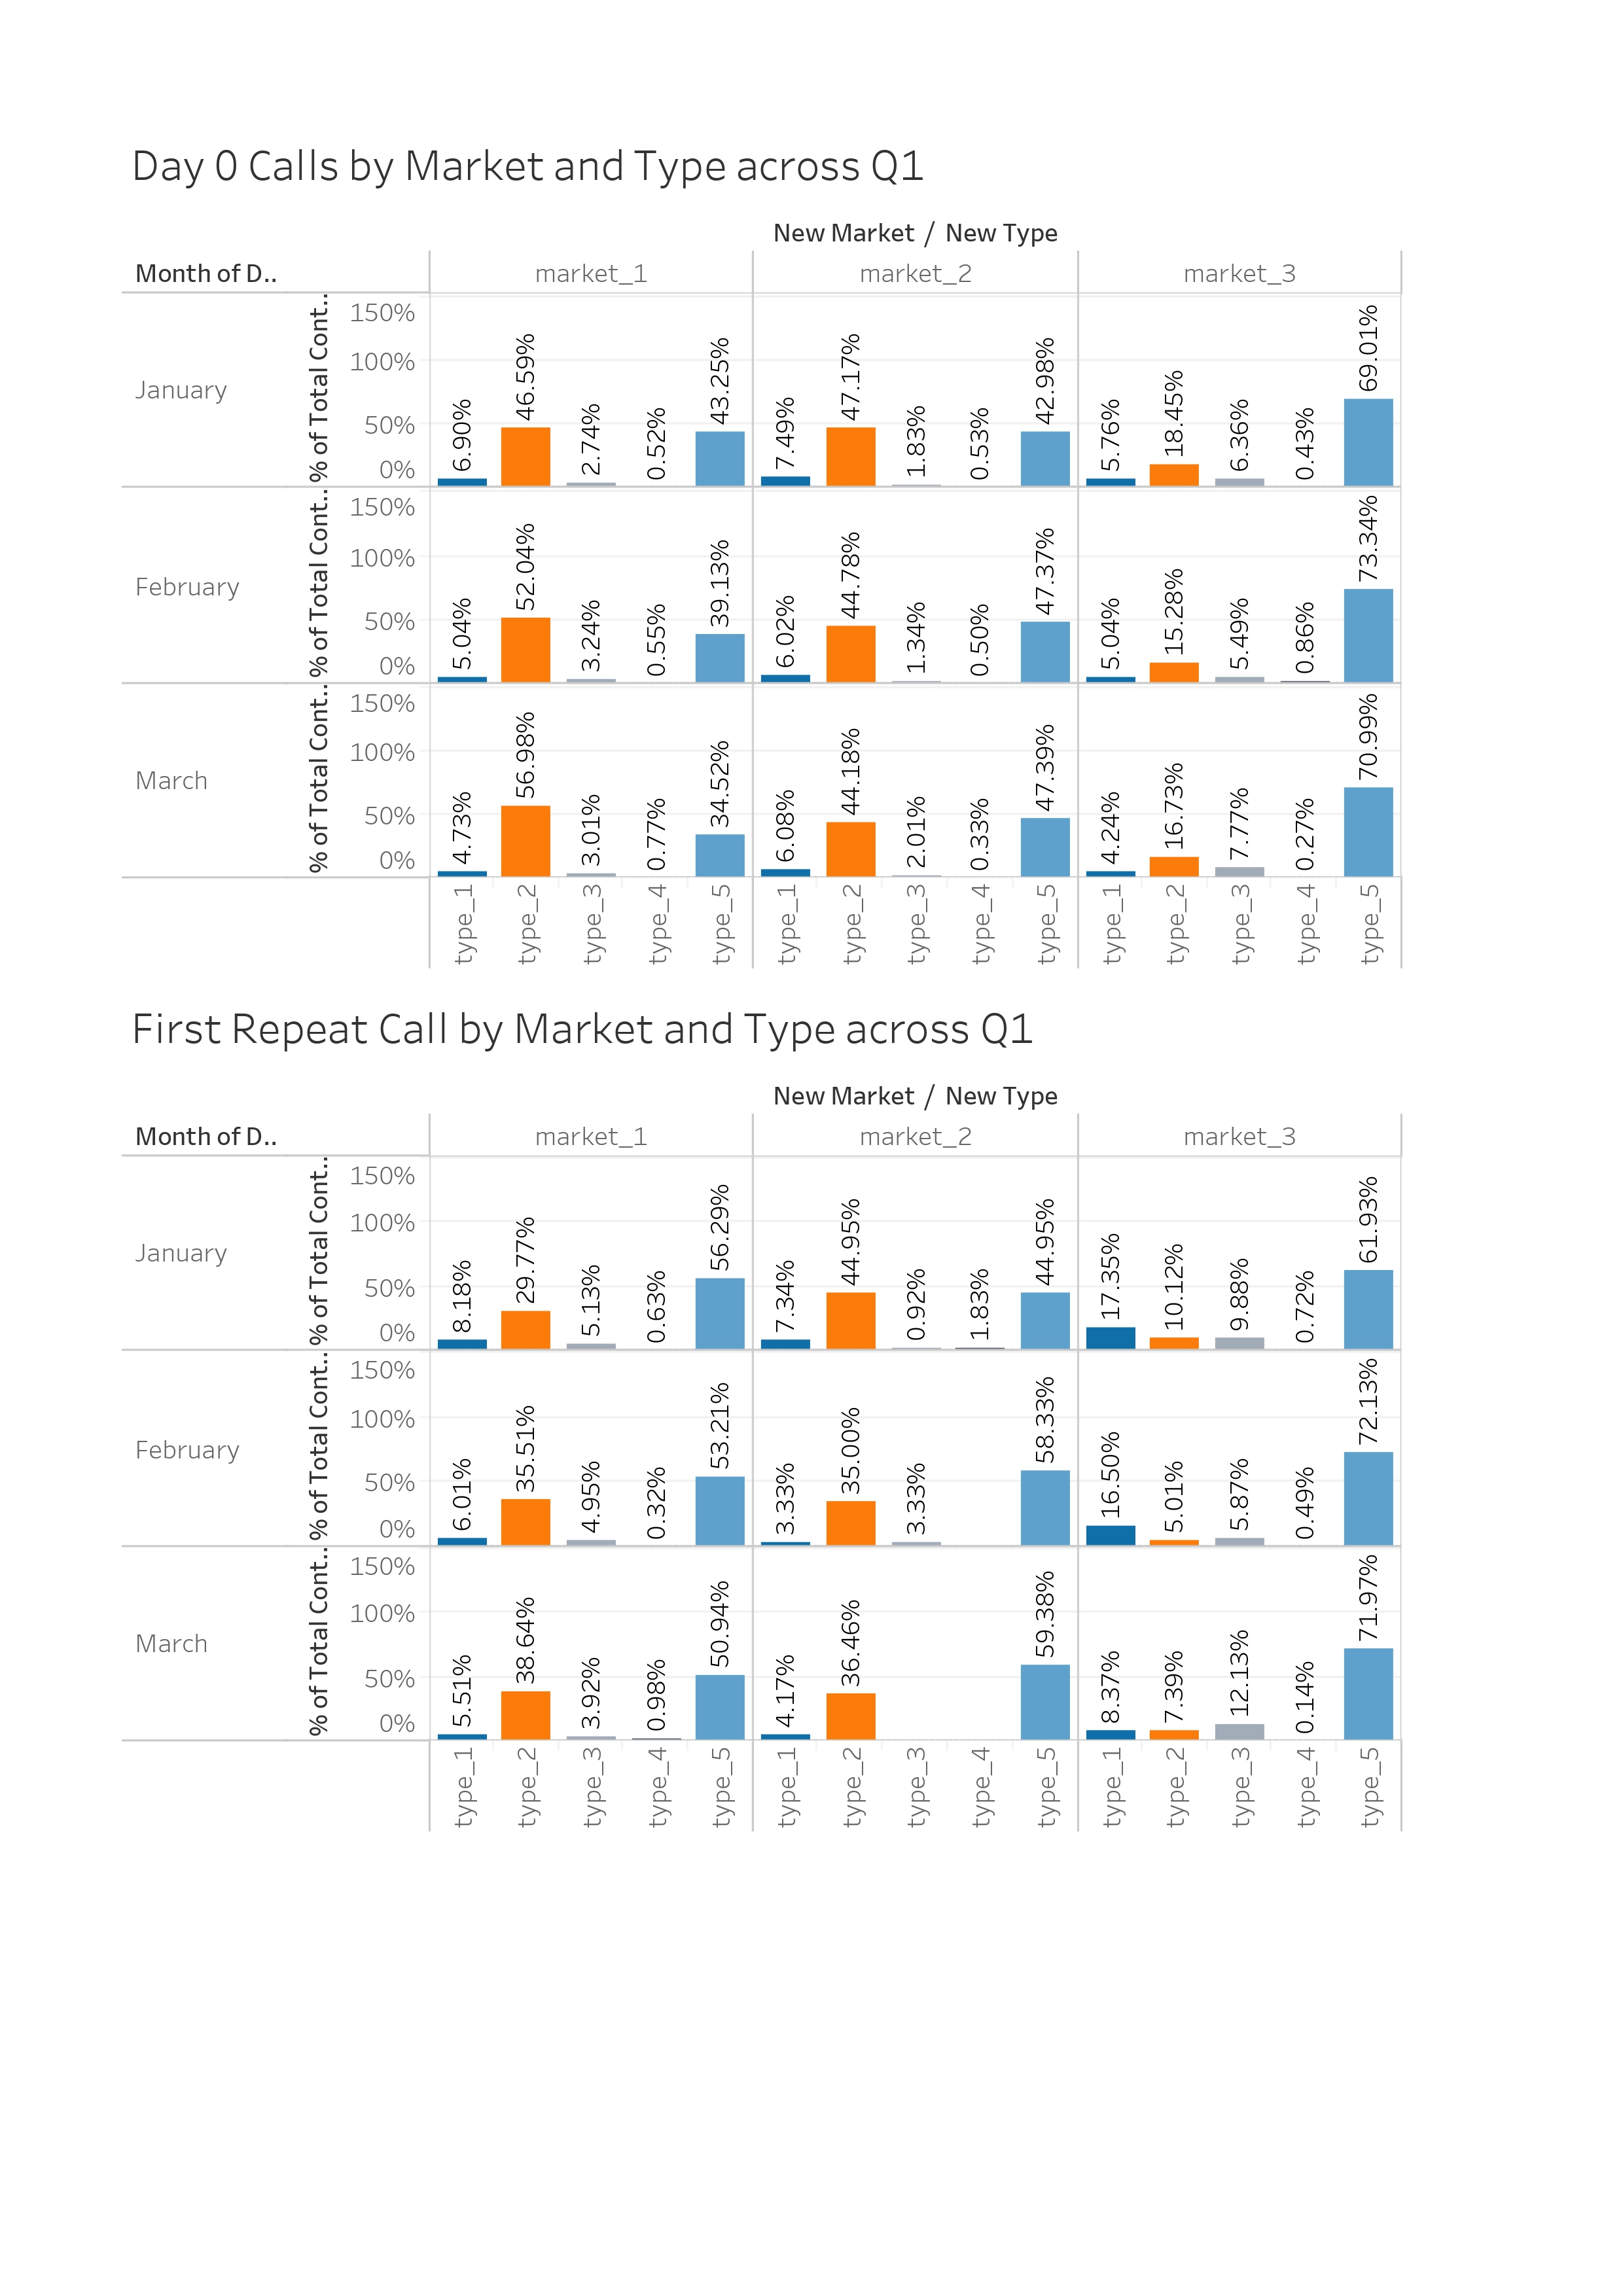

This screenshot's page, from the dashboard's own definition file:
{"tool":"tableau","page":{"name":"Dashboard 4","canvas":[650,860],"ordinal":3},"visuals":[{"type":"worksheet","title":"% Day 0 by Market and Type","mark":"Bar","rows":["date_created"],"cols":["new_market","new_type"],"box":[8,8,634,422]},{"type":"worksheet","title":"% Day 1 by Market and Type","mark":"Bar","rows":["date_created"],"cols":["new_market","new_type"],"box":[8,430,634,422]}]}

Visuals, with their boxes on the page's 650x860 design canvas (x1, y1, x2, y2). These are canvas units, not pixel positions in the 1623x2296 screenshot, which may show the page scaled, cropped or inside an application window:
"% Day 0 by Market and Type" worksheet (Bar marks): region(8, 8, 642, 430)
"% Day 1 by Market and Type" worksheet (Bar marks): region(8, 430, 642, 852)
